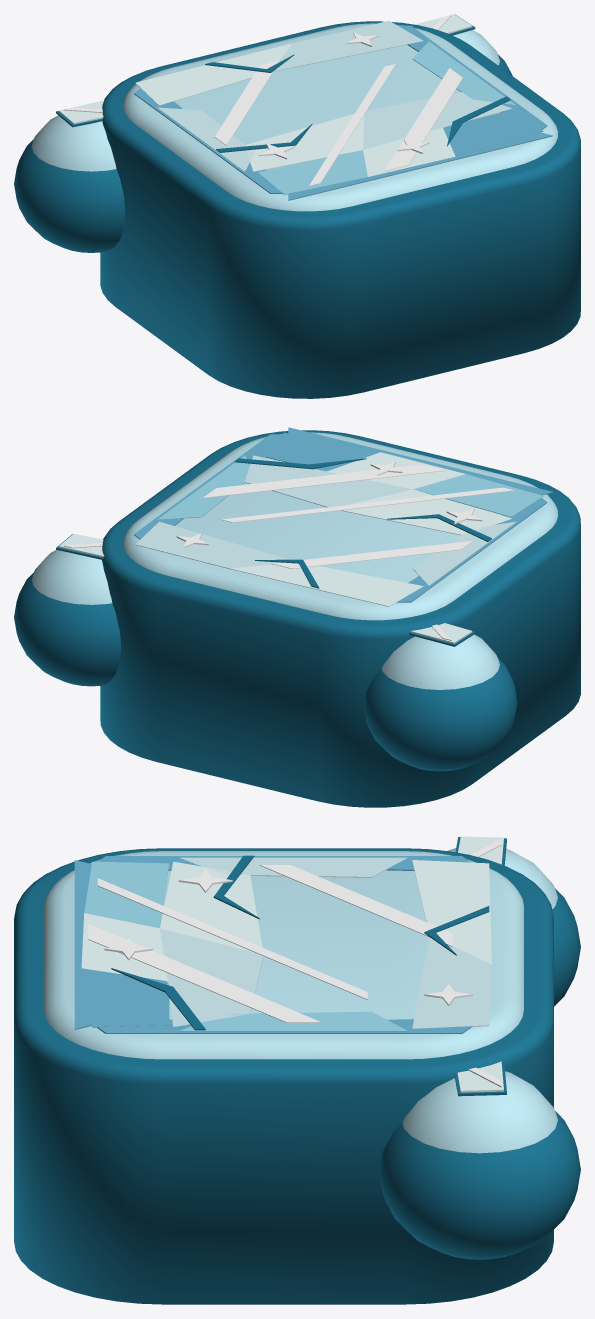
Rendered from body_estampa_gelo_bloco.fbx.
3 views of the same model, one above another, from view 1: azimuth 30°, elevation 25°; view 2: azimuth 150°, elevation 25°; view 3: azimuth 270°, elevation 25° (orthographic). The views are drawn at different scales.
Parts seen in each view (by area): view 1: body_estampa_gelo_bloco_corpo, body_estampa_gelo_bloco_mao_esq, body_estampa_gelo_bloco_mao; view 2: body_estampa_gelo_bloco_corpo, body_estampa_gelo_bloco_mao_esq, body_estampa_gelo_bloco_mao; view 3: body_estampa_gelo_bloco_corpo, body_estampa_gelo_bloco_mao, body_estampa_gelo_bloco_mao_esq.
Part boxes in pixels (left/top/right/bottom): body_estampa_gelo_bloco_corpo: left=100, top=21, right=580, bottom=398; body_estampa_gelo_bloco_mao_esq: left=14, top=100, right=125, bottom=252; body_estampa_gelo_bloco_mao: left=415, top=14, right=512, bottom=75; body_estampa_gelo_bloco_corpo: left=100, top=427, right=580, bottom=807; body_estampa_gelo_bloco_mao_esq: left=364, top=623, right=517, bottom=771; body_estampa_gelo_bloco_mao: left=14, top=533, right=121, bottom=686; body_estampa_gelo_bloco_corpo: left=14, top=848, right=553, bottom=1304; body_estampa_gelo_bloco_mao: left=379, top=1061, right=580, bottom=1259; body_estampa_gelo_bloco_mao_esq: left=448, top=836, right=580, bottom=1006.
Size of the model in its own units: 5.4 by 2.05 by 4.2.
Materials: 1 (1 with a texture image).
